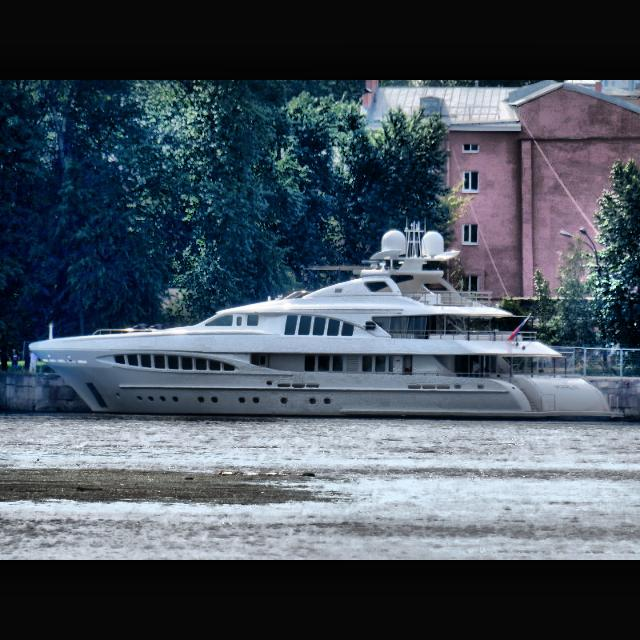yacht: (28, 221, 626, 423)
